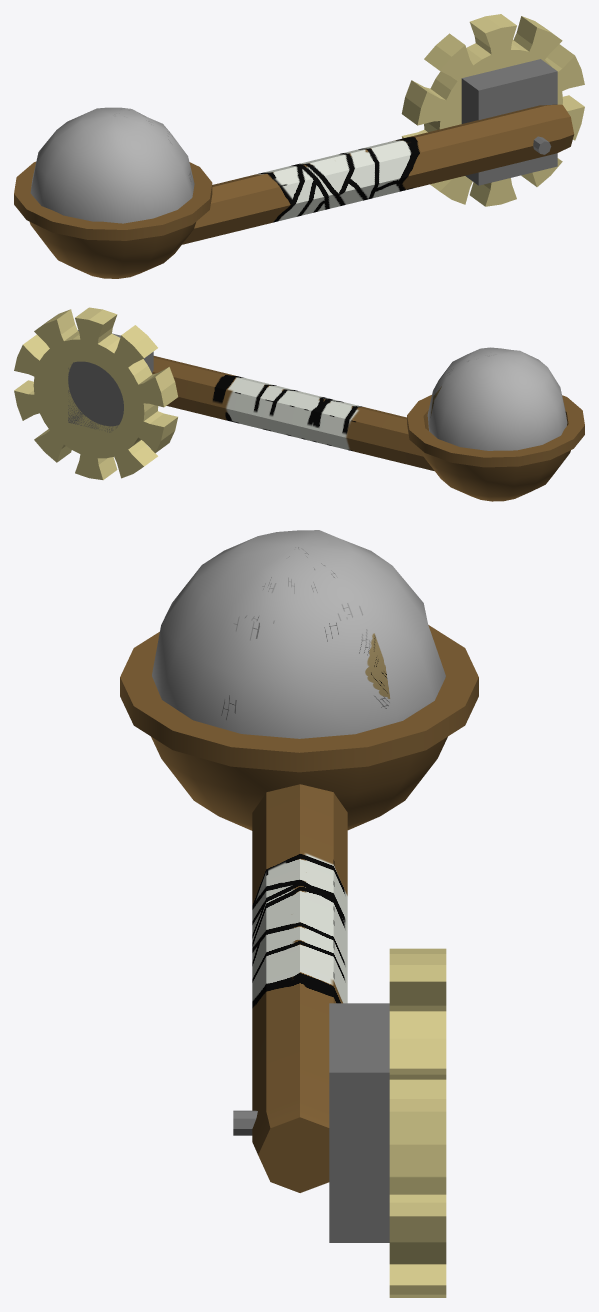
File: turret_2_1.fbx
3 views of the same model, one above another, from view 1: azimuth 30°, elevation 25°; view 2: azimuth 150°, elevation 25°; view 3: azimuth 270°, elevation 25° (orthographic). The views are drawn at different scales.
Parts seen in each view (by area): view 1: Gear, Bullet1; view 2: Gear, Bullet1; view 3: Gear, Bullet1.
Boxes of the visible parts, <box> form: Gear: <box>14,14,584,278</box>; Bullet1: <box>30,107,194,223</box>; Gear: <box>14,307,584,501</box>; Bullet1: <box>427,347,567,450</box>; Gear: <box>120,625,478,1297</box>; Bullet1: <box>152,530,445,738</box>.
Bounding box in the file's own units: 90.99 × 31.06 × 27.03.
